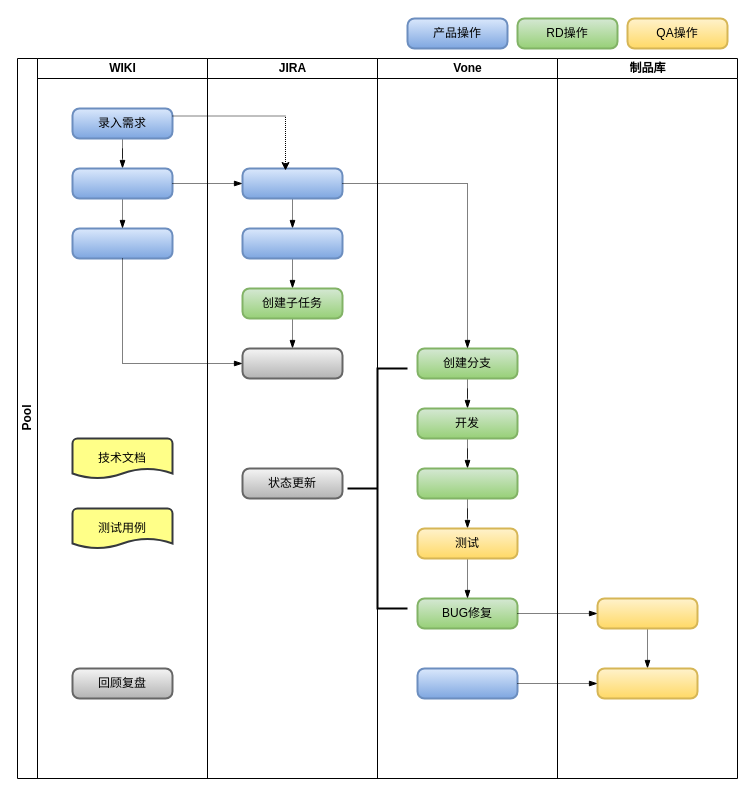
This 755x796 diagram has some shape labels left out. Here are the shapes that lost their labels. From the top down, the centre of each, then its label:
(122,183): 录入PRD
(292,183): 创建JIRA
(122,243): 需求评审结论
(292,243): 创建/关联版本
(292,363): 排期
(467,483): 提测
(647,613): 打包
(467,683): Release Note
(647,683): 发布
